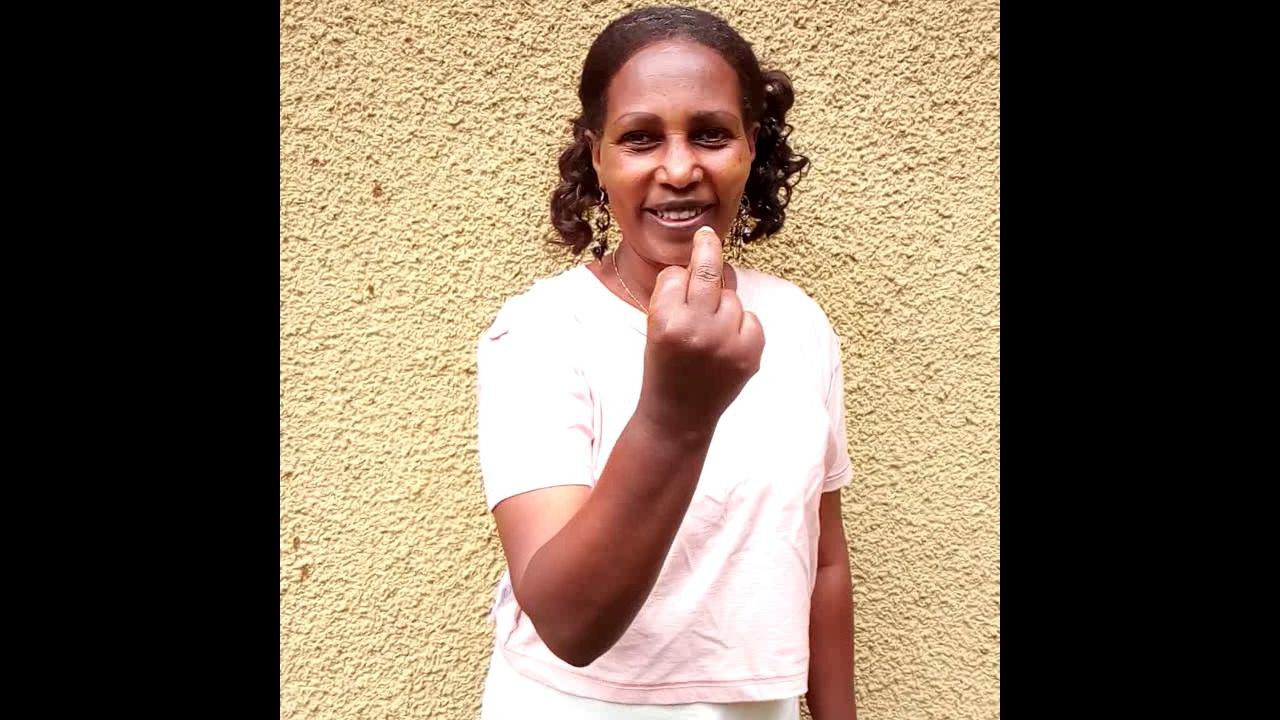CHE: (632, 231, 772, 507)
